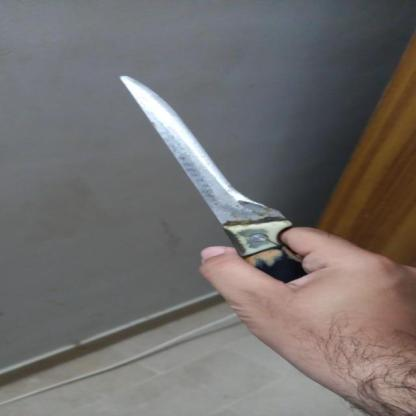Knife: (107, 67, 344, 290)
